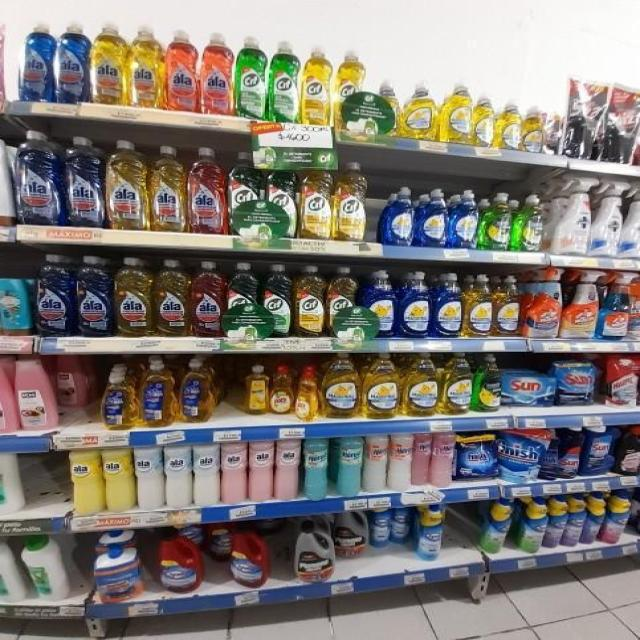ala_conc_amarillo: (105, 139, 148, 231), (149, 144, 186, 233), (90, 20, 126, 106), (128, 24, 164, 109), (116, 256, 152, 338), (153, 258, 190, 337)
ala_conc_azul: (14, 128, 60, 227), (64, 135, 104, 229), (34, 253, 74, 337), (76, 255, 112, 338), (54, 20, 89, 103), (19, 19, 53, 103), (554, 353, 599, 407)
ala_conc_rojo: (187, 146, 226, 236), (200, 30, 233, 116), (165, 28, 198, 112), (191, 260, 224, 338), (604, 354, 640, 407), (617, 425, 640, 475)
ala_crem_amarillo: (69, 449, 102, 516), (103, 447, 134, 513)
ala_crem_blanco: (164, 444, 192, 508), (193, 442, 219, 507)
ala_crem_rosado: (274, 438, 301, 501), (221, 441, 247, 505), (248, 439, 274, 503)
cif_conc_bot_amarilla: (334, 159, 371, 243), (332, 48, 368, 132), (299, 155, 332, 242), (301, 44, 331, 126), (327, 265, 359, 340), (294, 264, 326, 338)
cif_conc_botella_verde: (227, 150, 263, 238), (235, 34, 268, 120), (265, 151, 297, 239), (268, 38, 299, 124), (225, 262, 260, 338), (261, 263, 292, 338)
heroe: (303, 437, 329, 499), (363, 434, 387, 494), (388, 433, 411, 491), (412, 433, 431, 487)
magistral_con_amarillo: (321, 352, 360, 419), (362, 352, 401, 419), (400, 79, 439, 140), (404, 351, 439, 417), (440, 351, 472, 416), (440, 80, 472, 144), (464, 273, 493, 338), (494, 274, 522, 337), (473, 89, 496, 148)
magistral_con_azul: (363, 269, 398, 339), (398, 271, 431, 338), (381, 186, 414, 246), (433, 272, 462, 338), (416, 188, 448, 247), (449, 188, 479, 249)
zorro: (138, 358, 176, 428), (178, 357, 214, 424)
